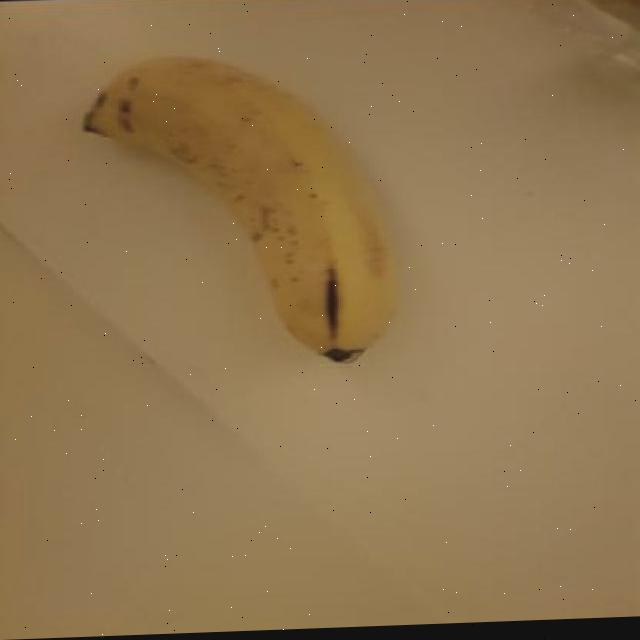banana: (72, 39, 412, 378)
